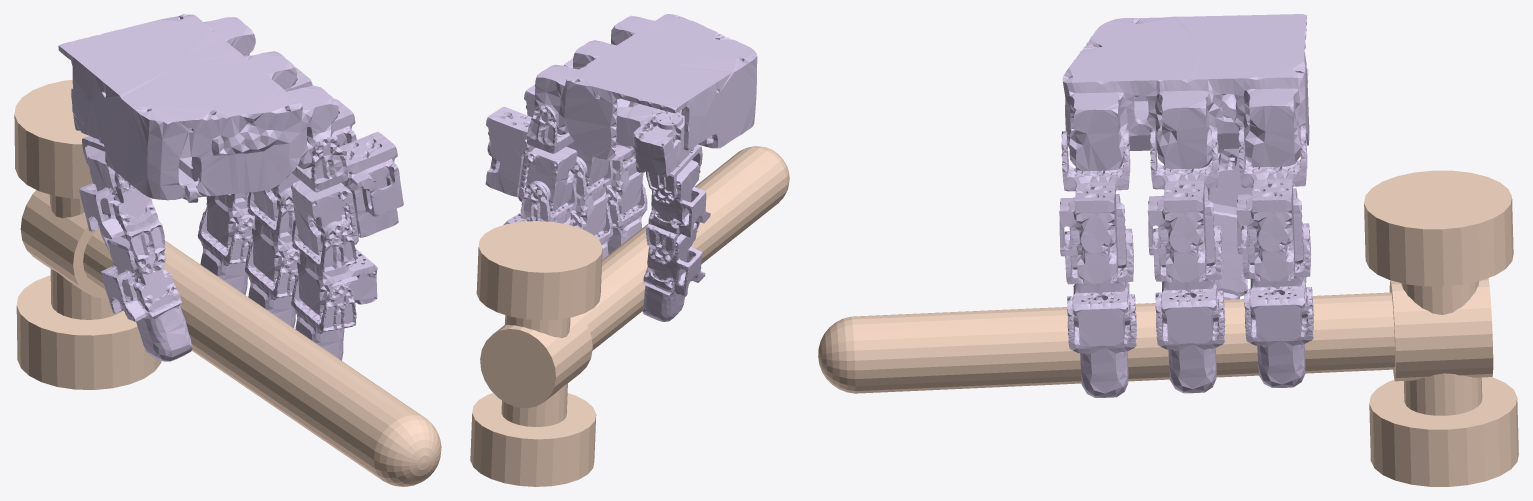
3 renders of one model, left to right at view 1: azimuth 30°, elevation 25°; view 2: azimuth 150°, elevation 25°; view 3: azimuth 270°, elevation 25°, orthographic. The views are drawn at different scales.
Parts seen in each view (by area): view 1: LEAP_hand, world; view 2: LEAP_hand, world; view 3: LEAP_hand, world.
Boxes of the visible parts, box(x1,y1,x2,y2) form: LEAP_hand: box(58, 14, 403, 361); world: box(14, 80, 441, 486); LEAP_hand: box(485, 14, 757, 321); world: box(470, 146, 789, 486); LEAP_hand: box(1059, 14, 1313, 397); world: box(818, 170, 1518, 486).
Size of the model in its own units: 0.141 by 0.2251 by 0.3591.
